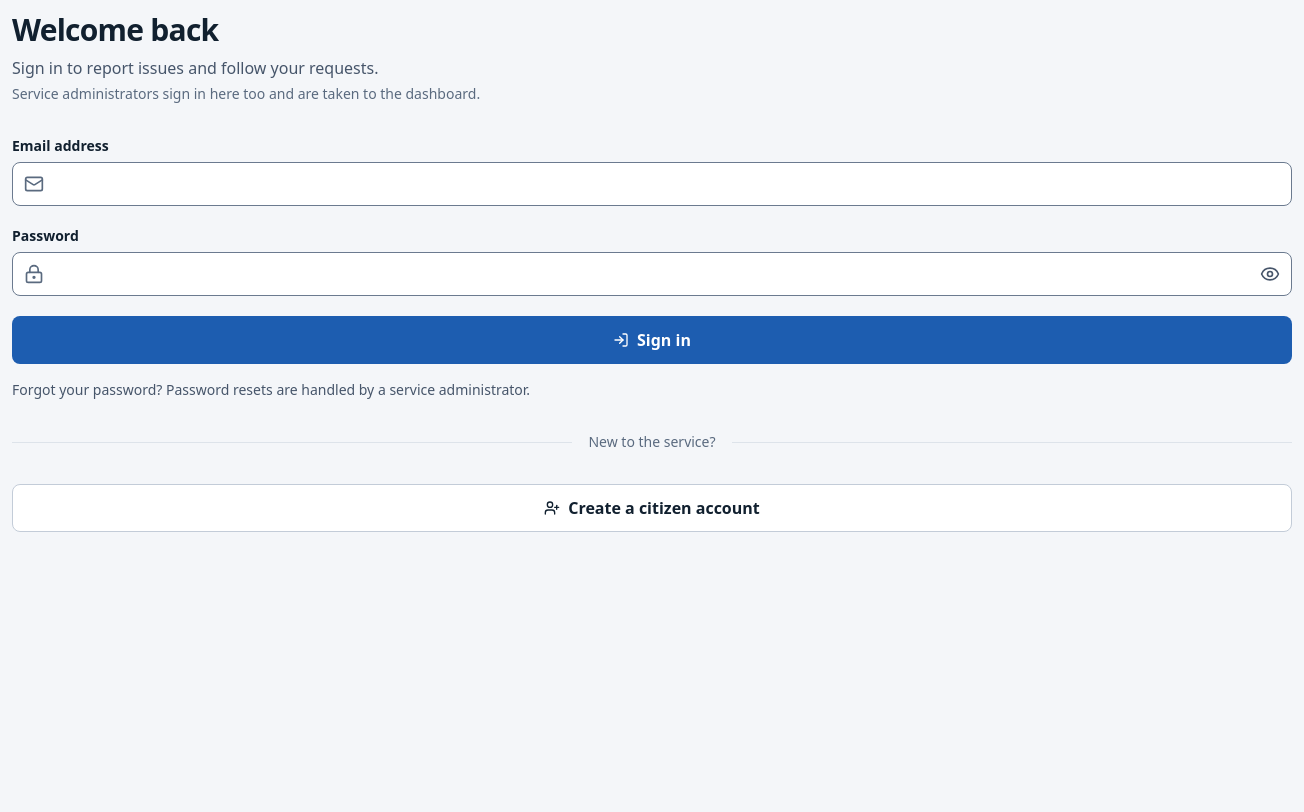
Test: LoginPage › signs a citizen in and goes to their requests
Type "  amina@example.test " into the field labelled "Email address". click: [652, 184]
box: x1=12 y1=162 x2=1292 y2=206
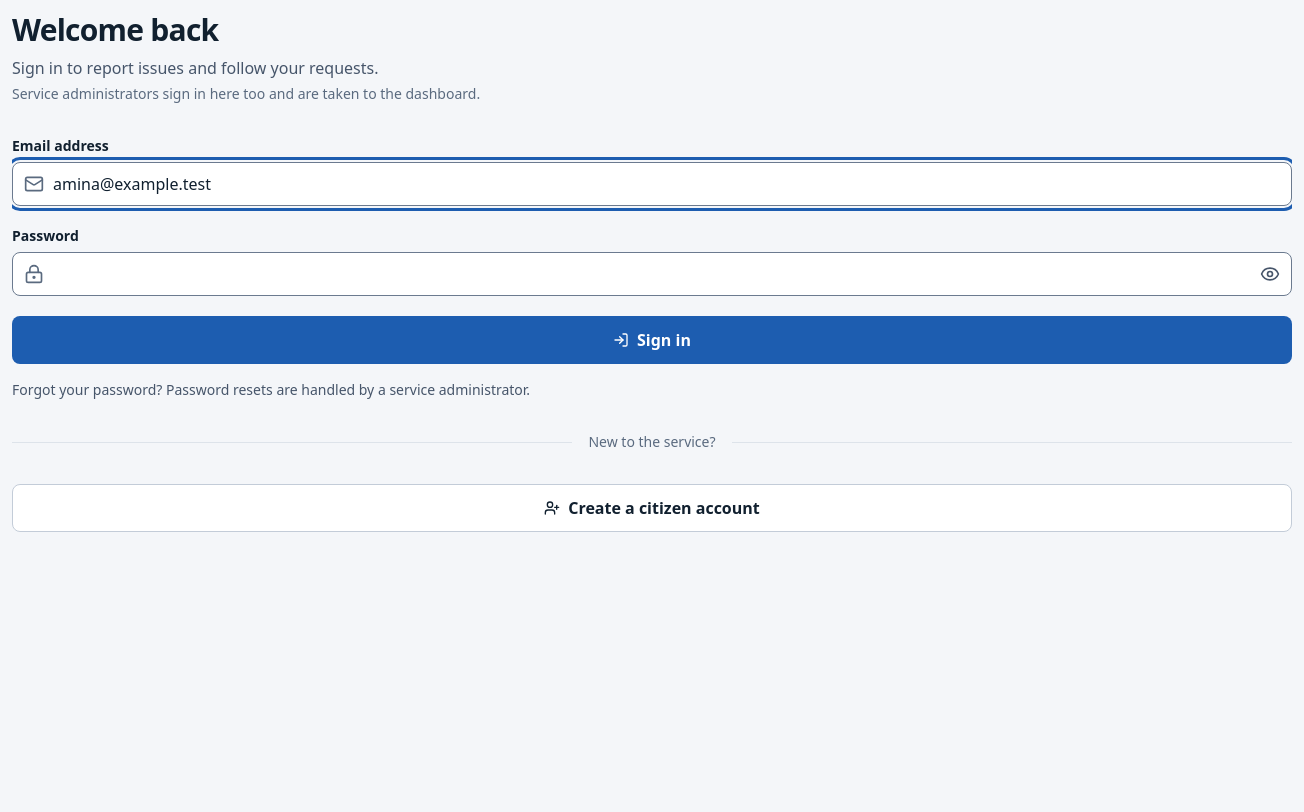
Type "secret-pass-1" into the password field labelled "Password". click: [652, 274]
box: x1=12 y1=252 x2=1292 y2=296
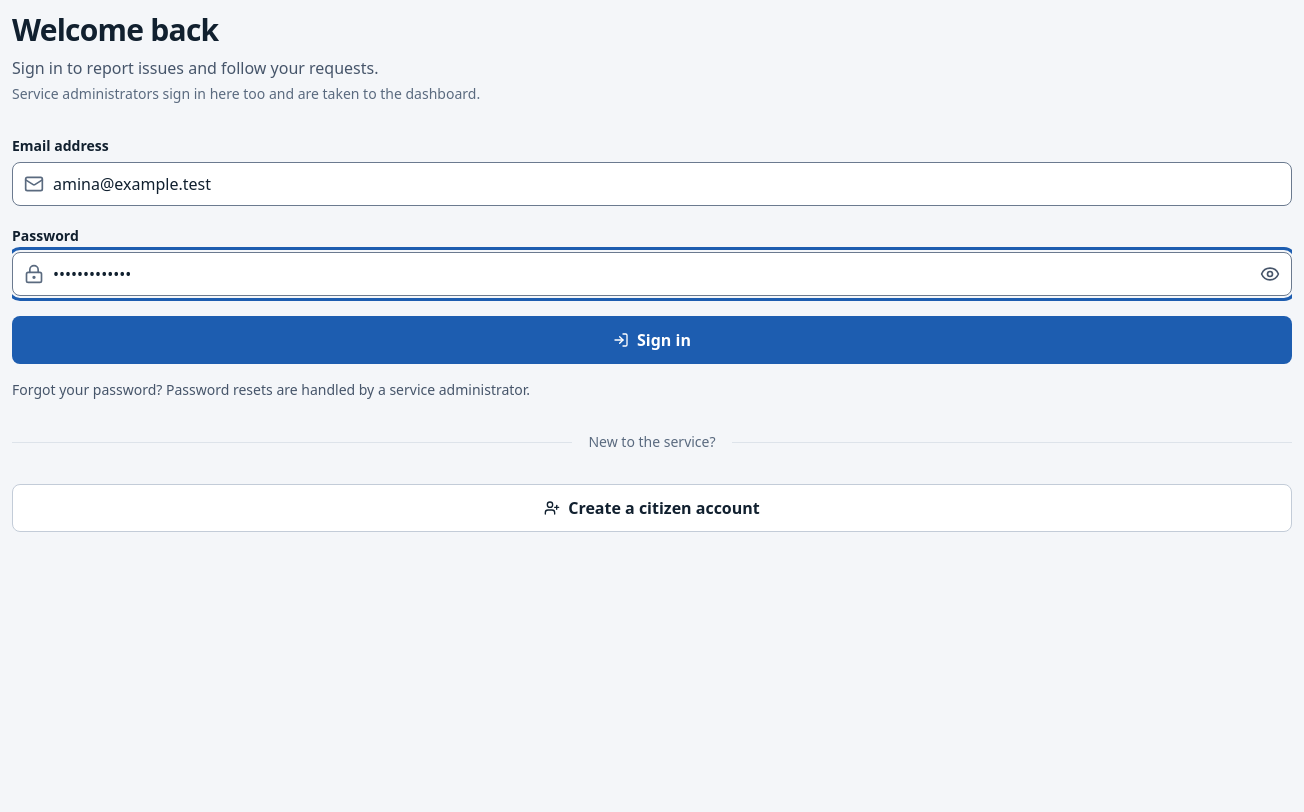
Click the button "Sign in". click: [652, 340]
box: x1=12 y1=316 x2=1292 y2=364
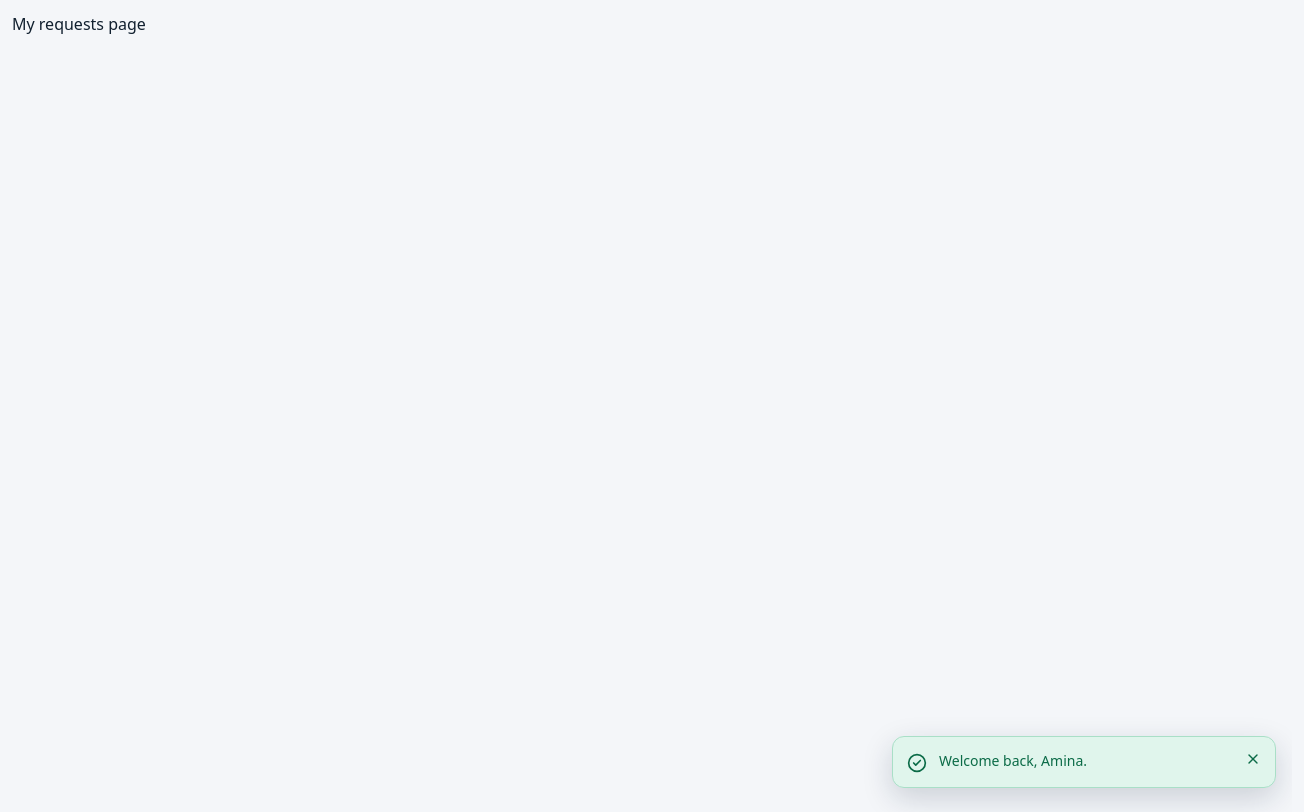
Expected: the heading "My requests page" is shown, x1=12 y1=13 x2=146 y2=35
